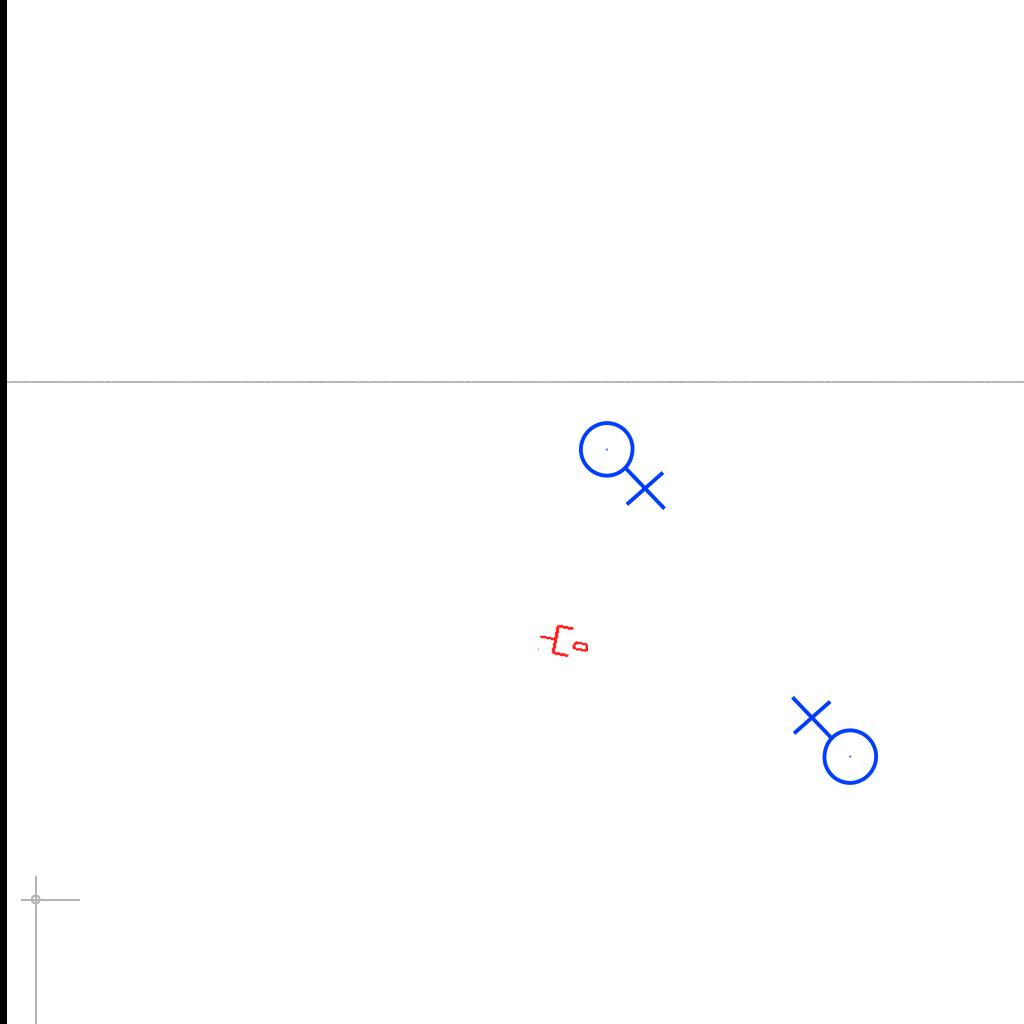Datenanschluss_einfach: (536, 619, 592, 663)
Elektroanschluss_allgemein_230V_Geraeteanschlussdose_230V: (786, 695, 880, 794), (577, 412, 671, 511)
